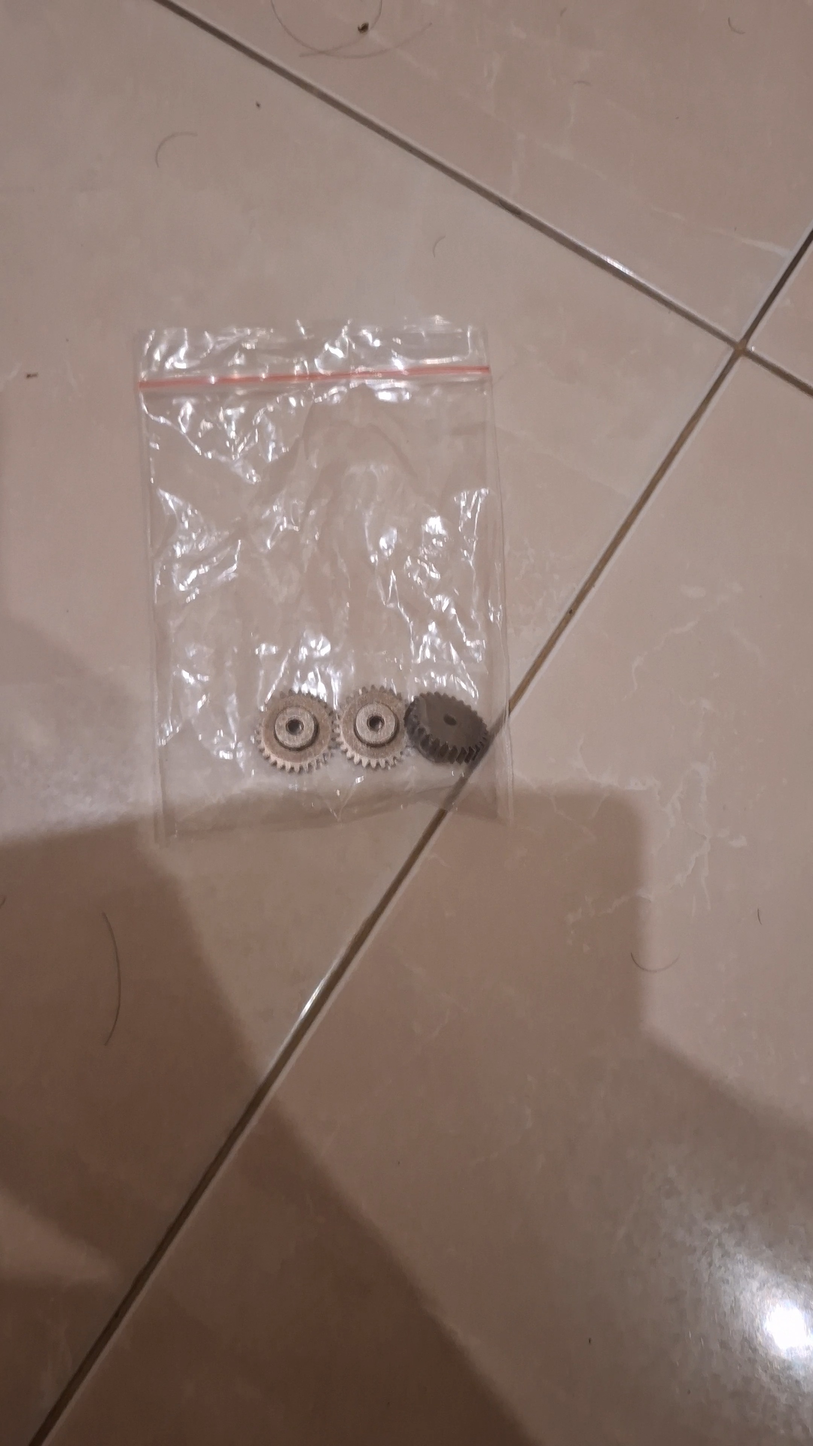spur gear: (254, 689, 340, 775), (401, 690, 490, 766), (335, 685, 411, 769)
